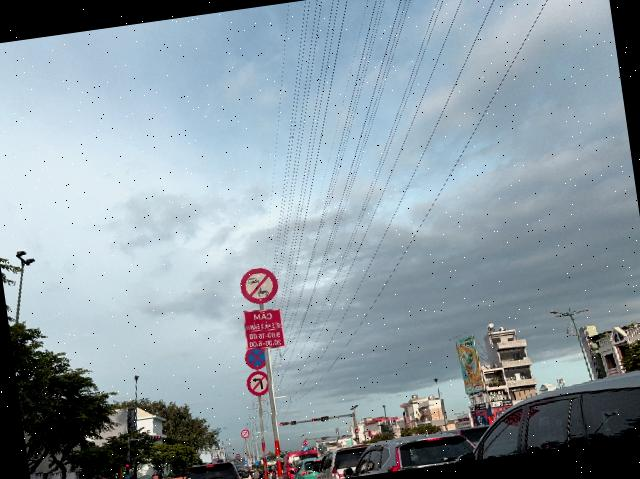cam-dung-va-do-xe: (244, 348, 267, 370)
cam-re-phai: (246, 369, 270, 398)
cam-xe-2-banh-3-banh: (238, 265, 280, 306)
